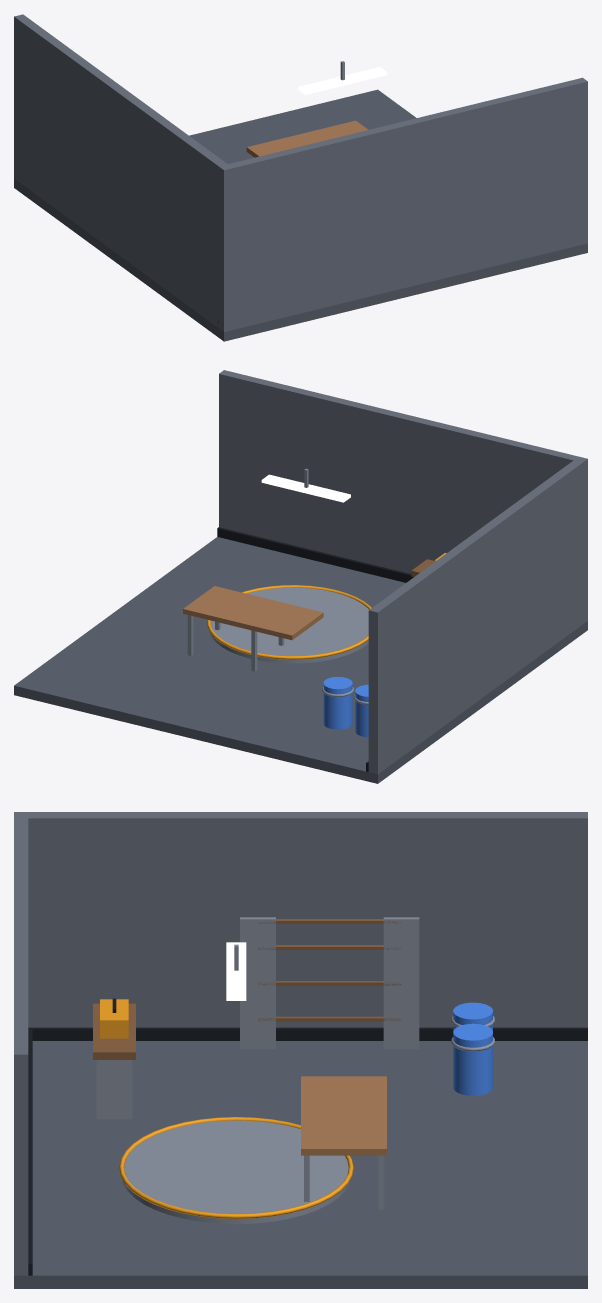
The model's file is taller.glb.
3 views of the same model, one above another, from view 1: azimuth 30°, elevation 25°; view 2: azimuth 150°, elevation 25°; view 3: azimuth 270°, elevation 25° (orthographic). The views are drawn at different scales.
Visible parts, largest first — view 1: pared_norte, pared_oeste, suelo, mesa_tablero, luminaria; view 2: pared_norte, suelo, pared_oeste, plataforma, mesa_tablero, zocalo_norte, bidon_2, plataforma_aro, luminaria, bidon_1; view 3: pared_oeste, suelo, plataforma, pared_norte, mesa_tablero, zocalo_oeste, estante_lat_izq, estante_lat_der, bidon_2, plataforma_aro, banco_pata_der, banco_trabajo (+6 smaller).
Part boxes in pixels (x1,y1,x2,y2): pared_norte: (219, 77, 587, 331); pared_oeste: (14, 14, 232, 331); suelo: (14, 89, 587, 341); mesa_tablero: (246, 120, 368, 157); luminaria: (298, 67, 387, 94); pared_norte: (219, 370, 587, 573); suelo: (14, 537, 587, 783); pared_oeste: (368, 457, 587, 774); plataforma: (209, 587, 368, 663); mesa_tablero: (183, 586, 323, 640); zocalo_norte: (217, 527, 413, 582); bidon_2: (323, 677, 352, 729); plataforma_aro: (207, 585, 371, 659); luminaria: (261, 474, 350, 502); bidon_1: (355, 684, 368, 737); pared_oeste: (14, 812, 587, 1027); suelo: (14, 1041, 587, 1288); plataforma: (122, 1120, 350, 1224); pared_norte: (14, 812, 28, 1275); mesa_tablero: (301, 1076, 386, 1155); zocalo_oeste: (28, 1027, 587, 1040); estante_lat_izq: (383, 917, 419, 1049); estante_lat_der: (240, 917, 275, 1049); bidon_2: (453, 1023, 492, 1095); plataforma_aro: (119, 1117, 353, 1218); banco_pata_der: (96, 1060, 132, 1119); banco_trabajo: (93, 1003, 135, 1059).
Size of the model in its own units: 8 by 3.6 by 8.
